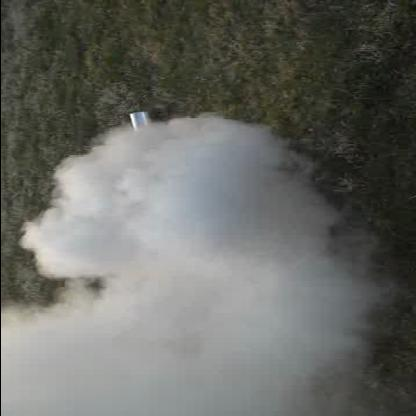Smoke: (1, 130, 381, 412)
